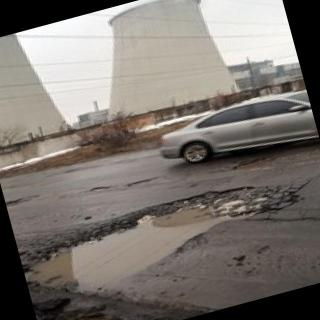pothole: (26, 186, 300, 297)
